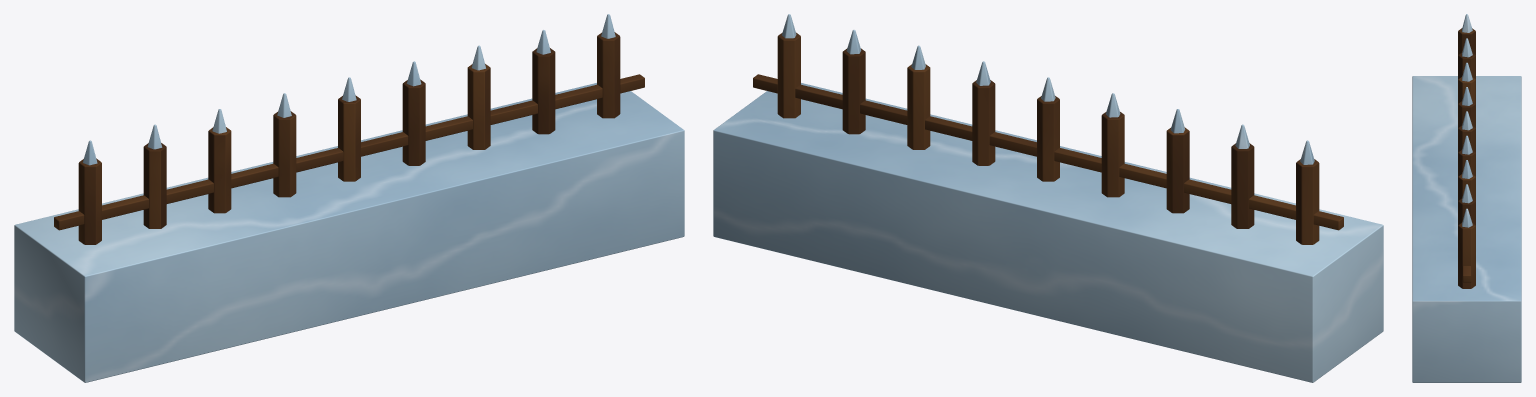
Rendered from building_outcast_ground_works.fbx.
3 renders of one model, left to right at view 1: azimuth 30°, elevation 25°; view 2: azimuth 150°, elevation 25°; view 3: azimuth 270°, elevation 25°, orthographic. The views are drawn at different scales.
Parts seen in each view (by area): view 1: building_outcast_ground_works; view 2: building_outcast_ground_works; view 3: building_outcast_ground_works.
Boxes of the visible parts, bbox=[...] form: building_outcast_ground_works: bbox=[14, 14, 684, 382]; building_outcast_ground_works: bbox=[713, 14, 1383, 382]; building_outcast_ground_works: bbox=[1412, 14, 1521, 382].
Bounding box in the file's own units: 8.8 × 2.9 × 1.8.
